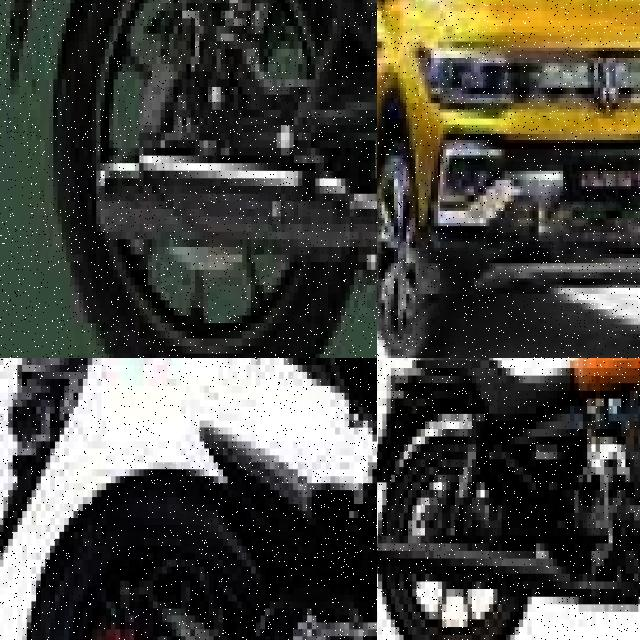bike: (6, 0, 377, 358), (0, 358, 377, 640), (377, 358, 640, 640)
car: (377, 0, 640, 358)
